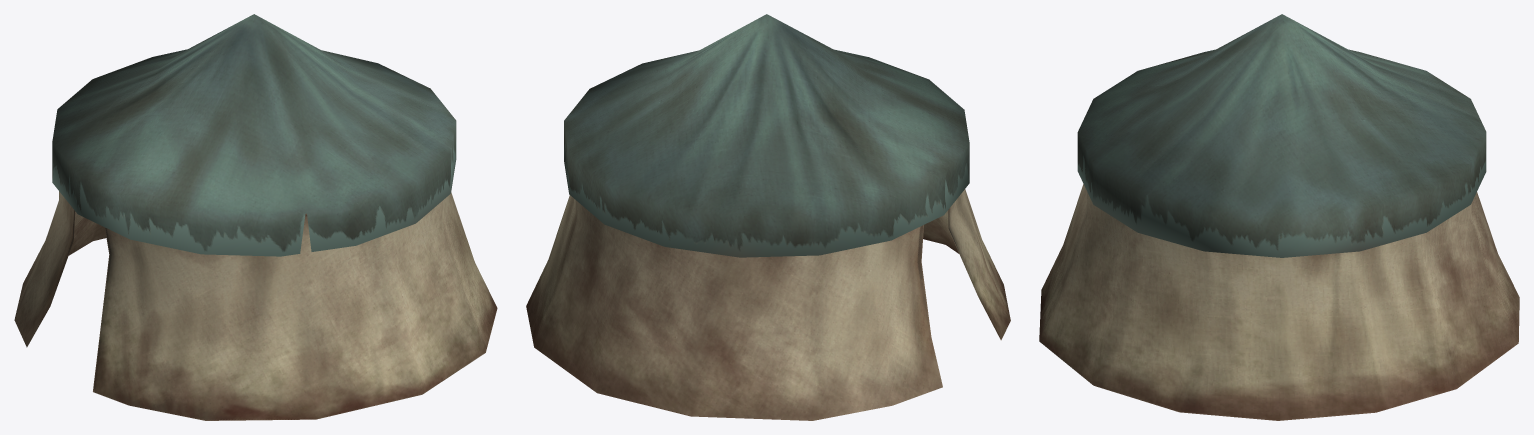
Rendered from tent_01.FBX.
3 views of the same model, side by side, from view 1: azimuth 30°, elevation 25°; view 2: azimuth 150°, elevation 25°; view 3: azimuth 270°, elevation 25° (orthographic).
Visible parts, largest first — view 1: tent_01; view 2: tent_01; view 3: tent_01.
Part boxes in pixels (<box>): tent_01: <box>14,14,497,420</box>; tent_01: <box>526,14,1010,420</box>; tent_01: <box>1039,14,1519,420</box>.
Bounding box in the file's own units: 125 × 88.12 × 126.
